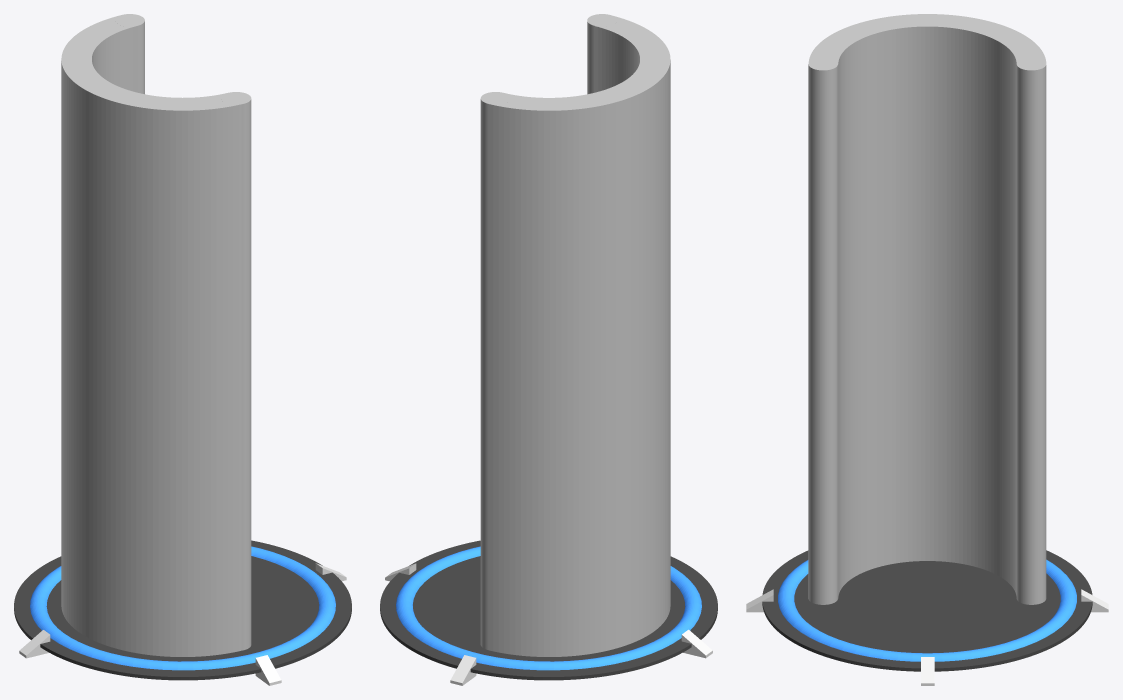
The model's file is teleport.glb.
The picture shows the model from 3 angles, left to right: view 1: azimuth 30°, elevation 25°; view 2: azimuth 150°, elevation 25°; view 3: azimuth 270°, elevation 25°; orthographic projection. The views are drawn at different scales.
Parts seen in each view (by area): view 1: Cylinder, Cylinder.001, Cylinder.002, Torus, Cylinder.003, Cube; view 2: Cylinder, Cylinder.001, Torus, Cylinder.003, Cylinder.002, Cube.001; view 3: Cylinder, Cylinder.001, Cylinder.003, Cylinder.002, Torus.
Boxes of the visible parts, x1,y1,x2,y2 form: Cylinder: [61, 15, 241, 656]; Cylinder.001: [14, 540, 351, 680]; Cylinder.002: [221, 92, 251, 650]; Torus: [30, 546, 335, 670]; Cylinder.003: [114, 14, 144, 94]; Cube: [255, 655, 281, 685]; Cylinder: [488, 16, 670, 656]; Cylinder.001: [380, 540, 717, 680]; Torus: [396, 546, 701, 670]; Cylinder.003: [480, 92, 510, 649]; Cylinder.002: [587, 14, 617, 94]; Cube.001: [450, 655, 476, 685]; Cylinder: [808, 14, 1046, 598]; Cylinder.001: [762, 550, 1092, 671]; Cylinder.003: [1016, 58, 1046, 604]; Cylinder.002: [808, 58, 837, 604]; Torus: [778, 559, 1076, 661].
Size of the model in its own units: 3.05 by 5.06 by 3.05.
